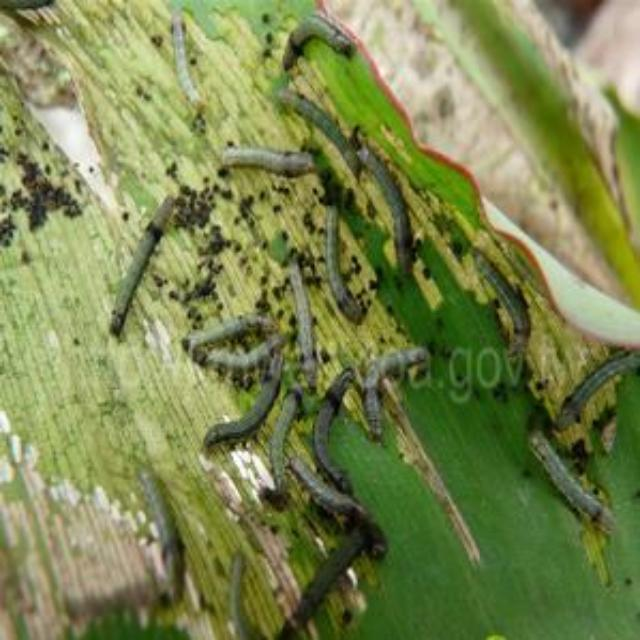Tobacco cutworm: (84, 145, 194, 353), (260, 483, 388, 640), (504, 414, 640, 544), (108, 452, 202, 620), (344, 134, 434, 300), (452, 237, 552, 381), (530, 316, 640, 444), (195, 347, 308, 469), (296, 200, 386, 328), (289, 364, 376, 491), (142, 7, 238, 119), (209, 112, 319, 206), (277, 84, 373, 190), (353, 328, 442, 438), (257, 6, 375, 84), (173, 294, 285, 368), (206, 535, 272, 640)
